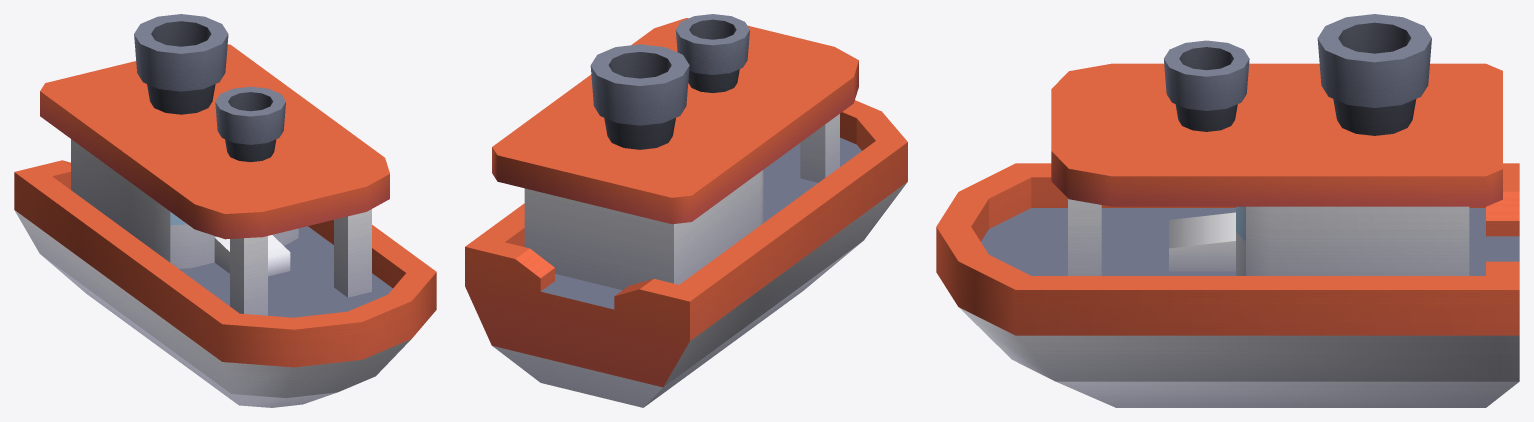
File: boat-tug-a.glb
3 renders of one model, left to right at view 1: azimuth 30°, elevation 25°; view 2: azimuth 150°, elevation 25°; view 3: azimuth 270°, elevation 25°, orthographic. The views are drawn at different scales.
Parts seen in each view (by area): view 1: boat-tug-a; view 2: boat-tug-a; view 3: boat-tug-a.
Boxes of the visible parts, x1,y1,x2,y2 form: boat-tug-a: (14,14,436,407); boat-tug-a: (465,14,907,407); boat-tug-a: (936,14,1519,407).
Bounding box in the file's own units: 6.07 × 7.61 × 11.8.
1 material, 1 textured.
